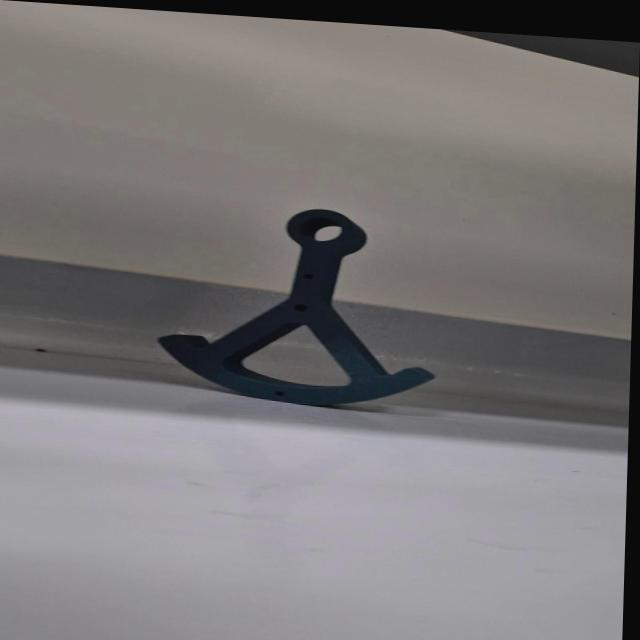haptic: (153, 197, 443, 416)
